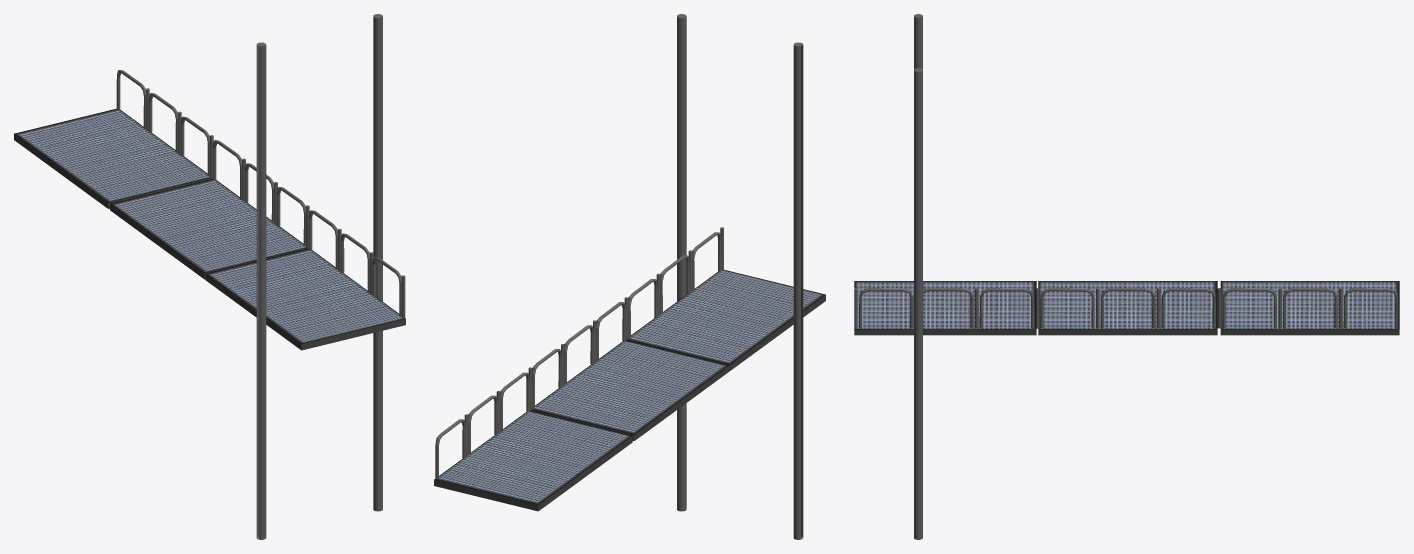
File: scaffolding2.0.fbx
The picture shows the model from 3 angles, left to right: view 1: azimuth 30°, elevation 25°; view 2: azimuth 150°, elevation 25°; view 3: azimuth 270°, elevation 25°; orthographic projection. The views are drawn at different scales.
Visible parts, largest first — view 1: Plane; view 2: Plane; view 3: Plane.
Part boxes in pixels (x1=…): Plane: x1=14, y1=14, x2=405, y2=539; Plane: x1=434, y1=14, x2=825, y2=539; Plane: x1=854, y1=14, x2=1399, y2=539.
Bounding box in the file's own units: 240 × 904 × 955.
